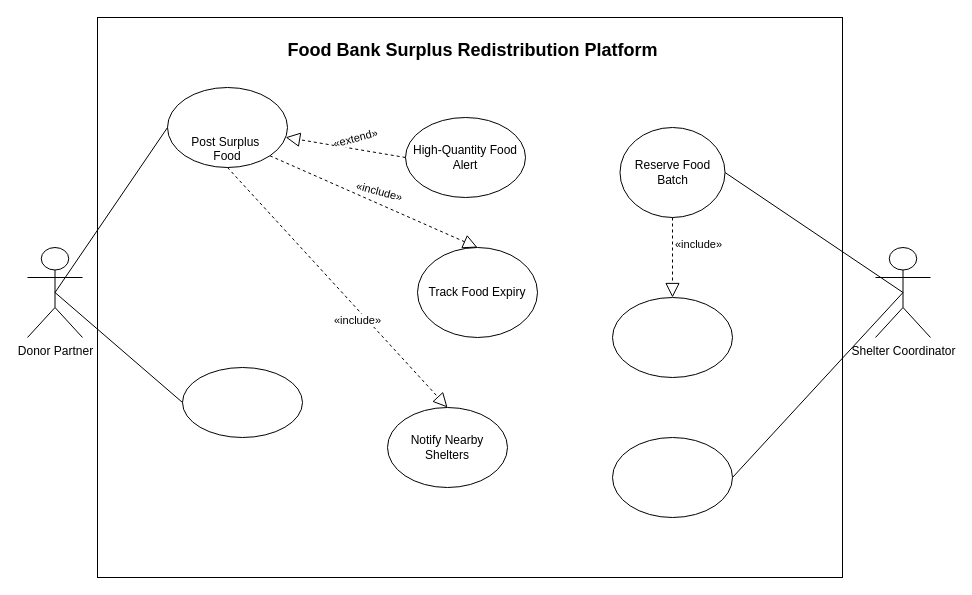
This 972x595 diagram has some shape labels left out. The centre of each missing label's shape, as x and y in pixels:
Manage Food Listing: the point at 242,402
Select Pickup Window: the point at 672,337
Verify Pickup: the point at 672,477
